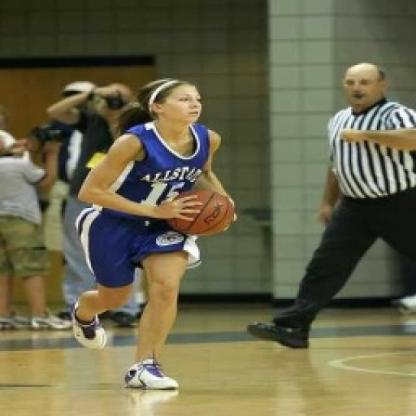basketball: (165, 185, 238, 237)
